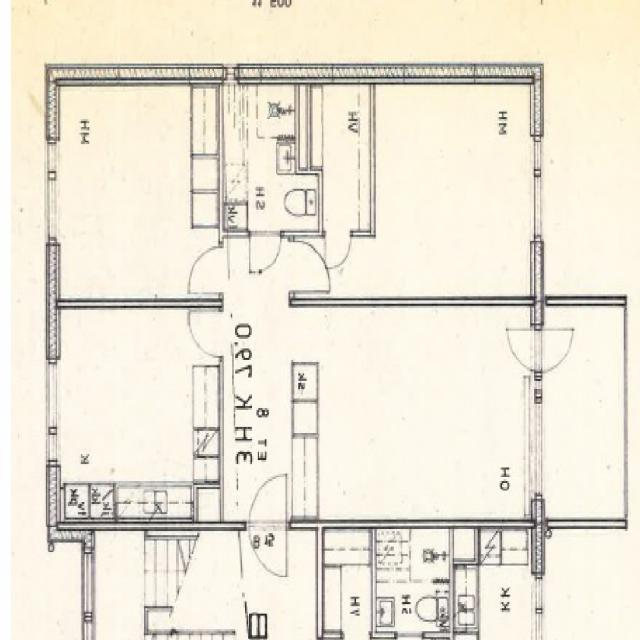door: (251, 520, 286, 577), (251, 472, 286, 528), (289, 242, 329, 290), (186, 310, 224, 356), (186, 248, 224, 293), (504, 330, 542, 372), (534, 330, 572, 372), (250, 230, 281, 278), (326, 230, 351, 270)
